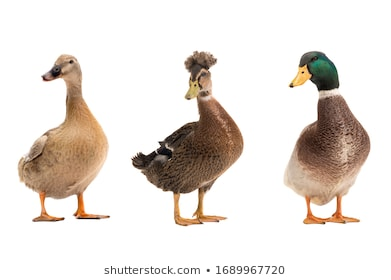duck: (127, 32, 247, 240), (8, 45, 129, 240), (274, 44, 377, 240)
